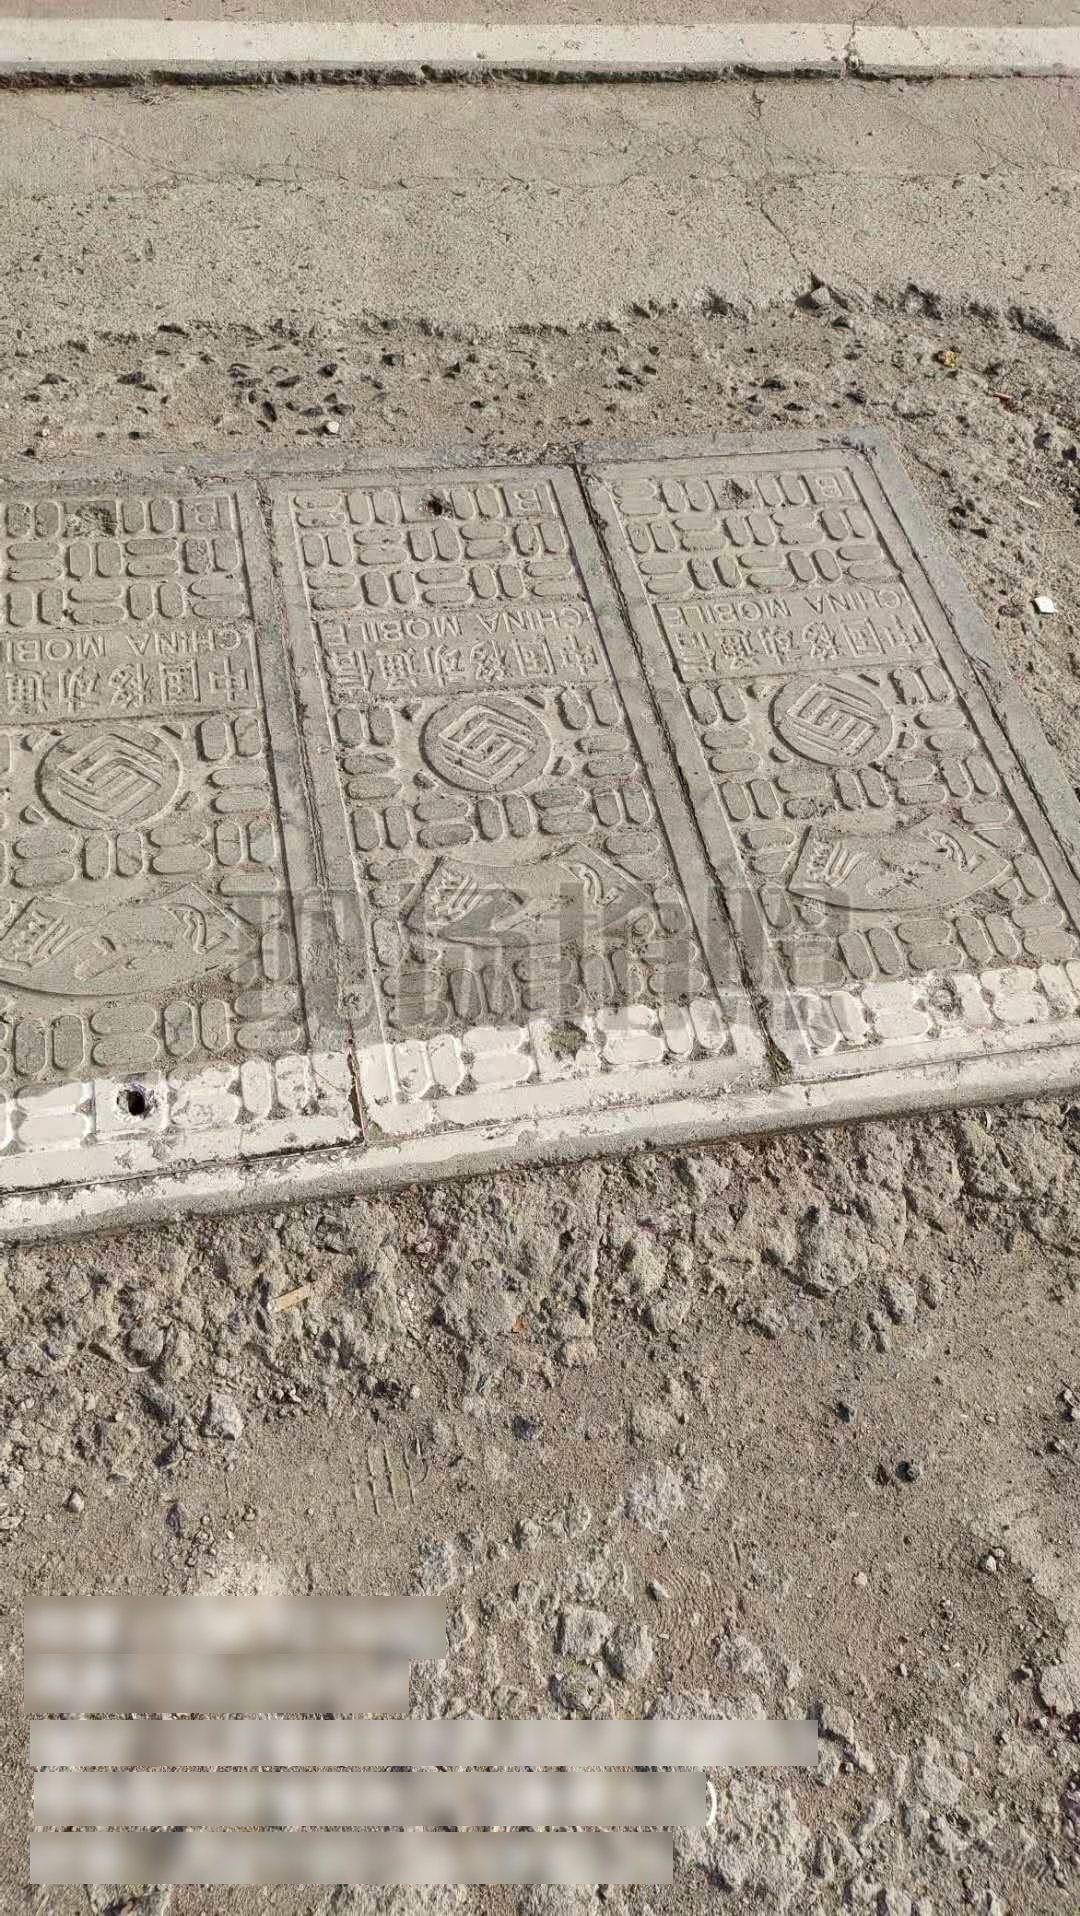good: (1, 424, 1080, 1248)
